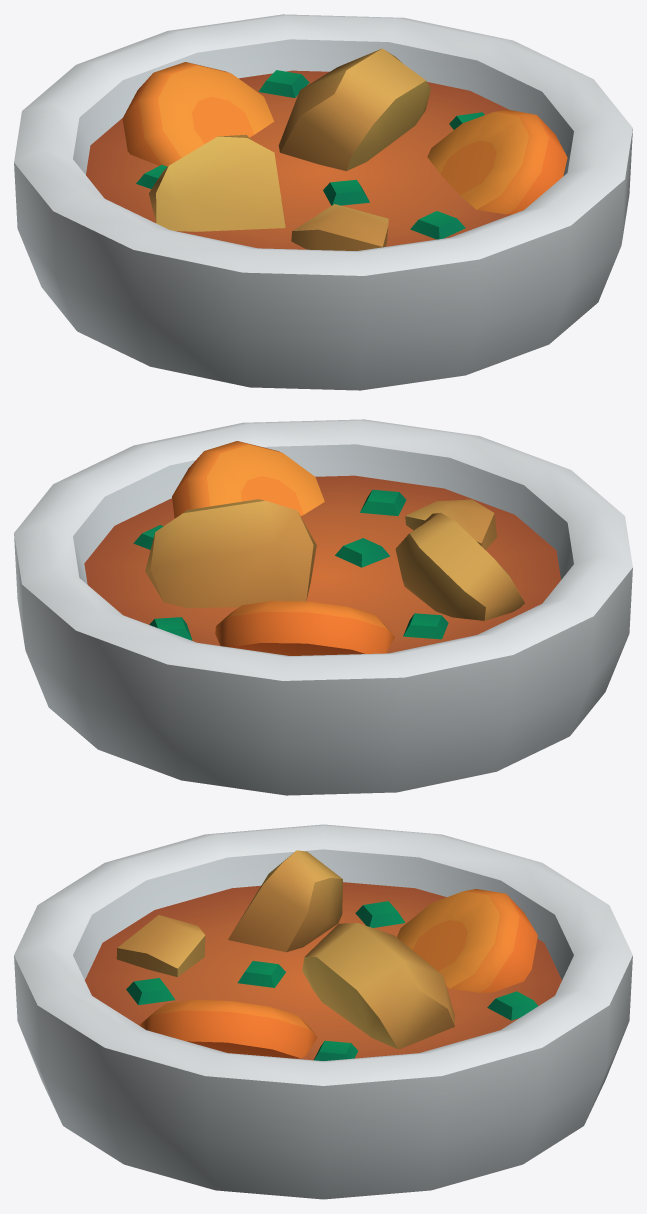
Rendered from Stew-rPa4vEsC9c.glb.
3 renders of one model, top to bottom at view 1: azimuth 30°, elevation 25°; view 2: azimuth 150°, elevation 25°; view 3: azimuth 270°, elevation 25°, orthographic.
Visible parts, largest first — view 1: food_stew; view 2: food_stew; view 3: food_stew.
Boxes of the visible parts, bbox=[...] form: food_stew: bbox=[14, 14, 632, 390]; food_stew: bbox=[14, 419, 632, 795]; food_stew: bbox=[14, 824, 632, 1199].
Size of the model in its own units: 0.95 by 0.3697 by 0.95.
Materials: 1 (1 with a texture image).
